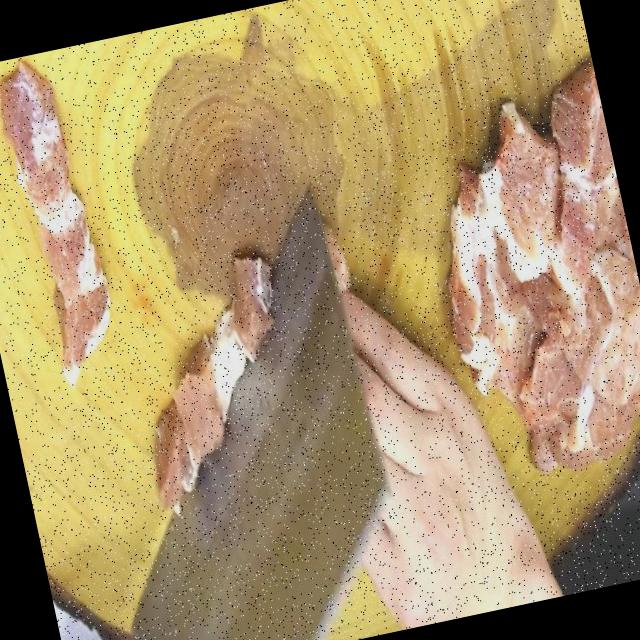pork: (100, 232, 332, 536), (0, 46, 144, 416), (521, 62, 640, 303), (494, 269, 640, 459), (478, 72, 584, 292), (426, 162, 526, 390)
